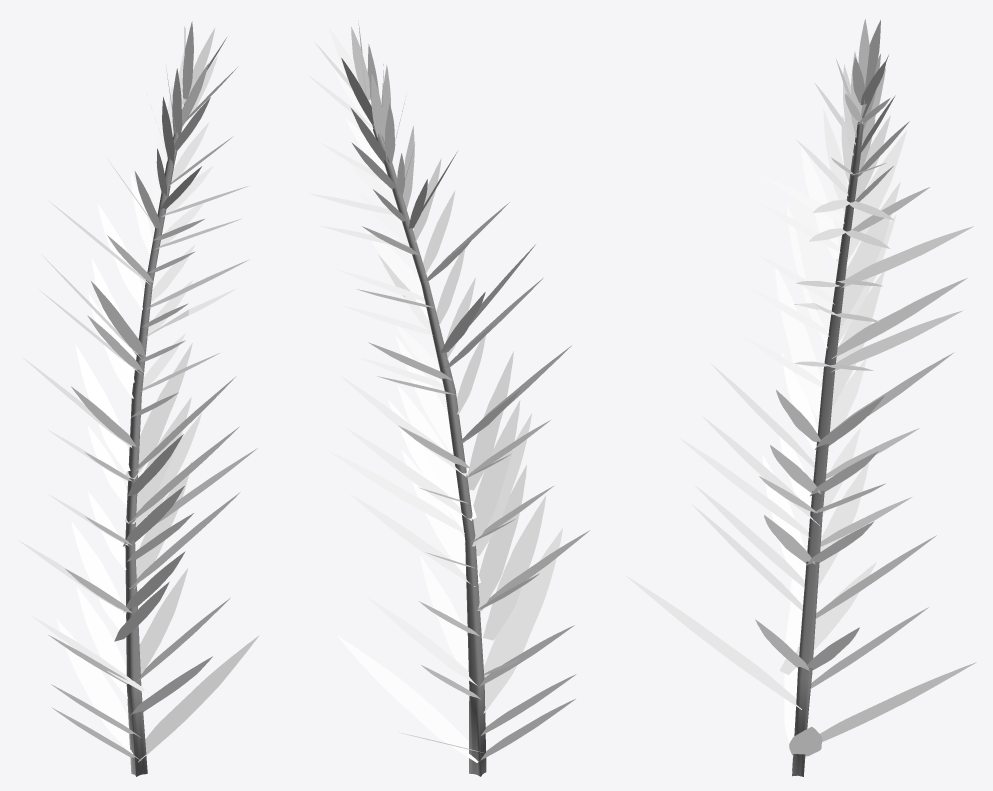
Rendered from Kelp.fbx.
3 renders of one model, left to right at view 1: azimuth 30°, elevation 25°; view 2: azimuth 150°, elevation 25°; view 3: azimuth 270°, elevation 25°, orthographic. The views are drawn at different scales.
Visible parts, largest first — view 1: Plane; view 2: Plane; view 3: Plane.
Boxes of the visible parts, x1,y1,x2,y2 form: Plane: (17,21,259,776); Plane: (308,21,590,776); Plane: (625,19,976,776).
Bounding box in the file's own units: 215 × 642 × 258.
